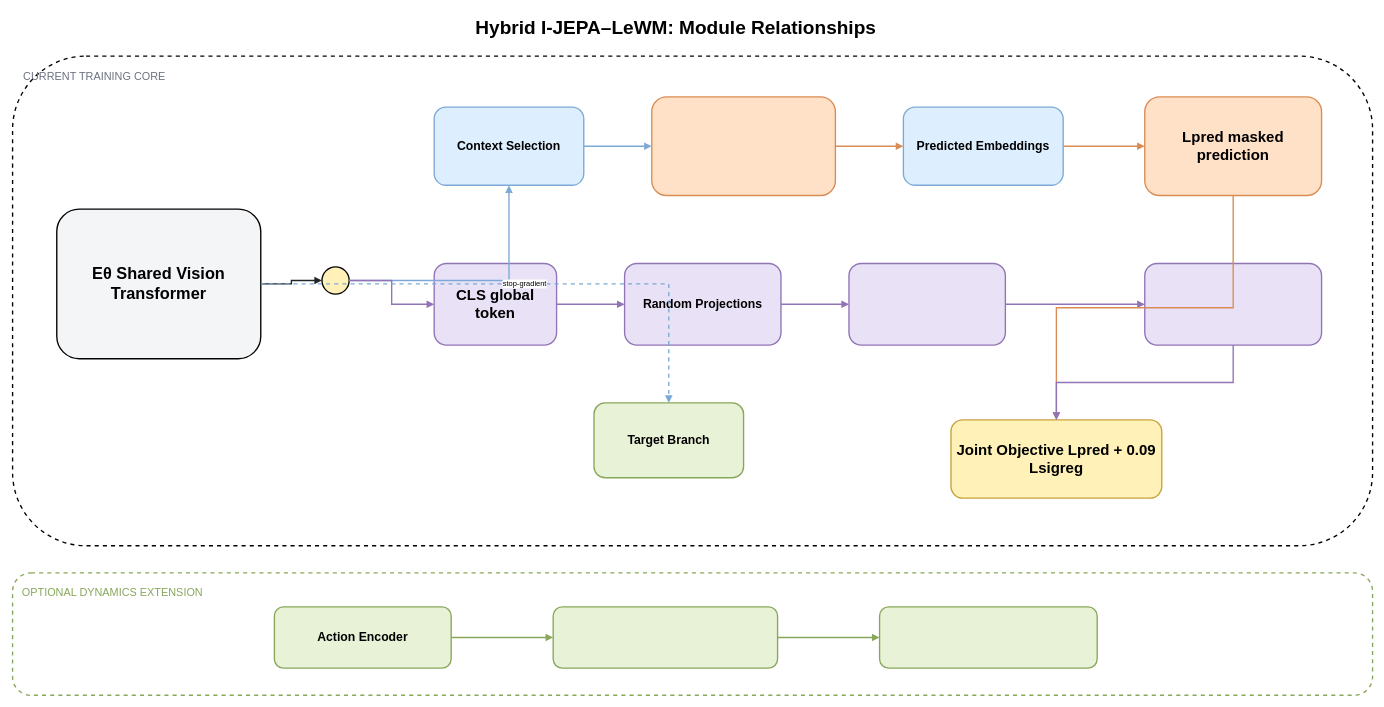
Some shapes in this 1384 by 707 pixel diagram are drawn without their labels. The centre of each missing label's shape, as x and y in pixels:
AdaLN Conditional Blocks: the point at 665,637
Autoregressive Rollout: the point at 988,637
Lsigreg collapse prevention: the point at 1233,303
Pφ Masked Predictor: the point at 743,146
SIGReg isotropic prior: the point at 927,303
